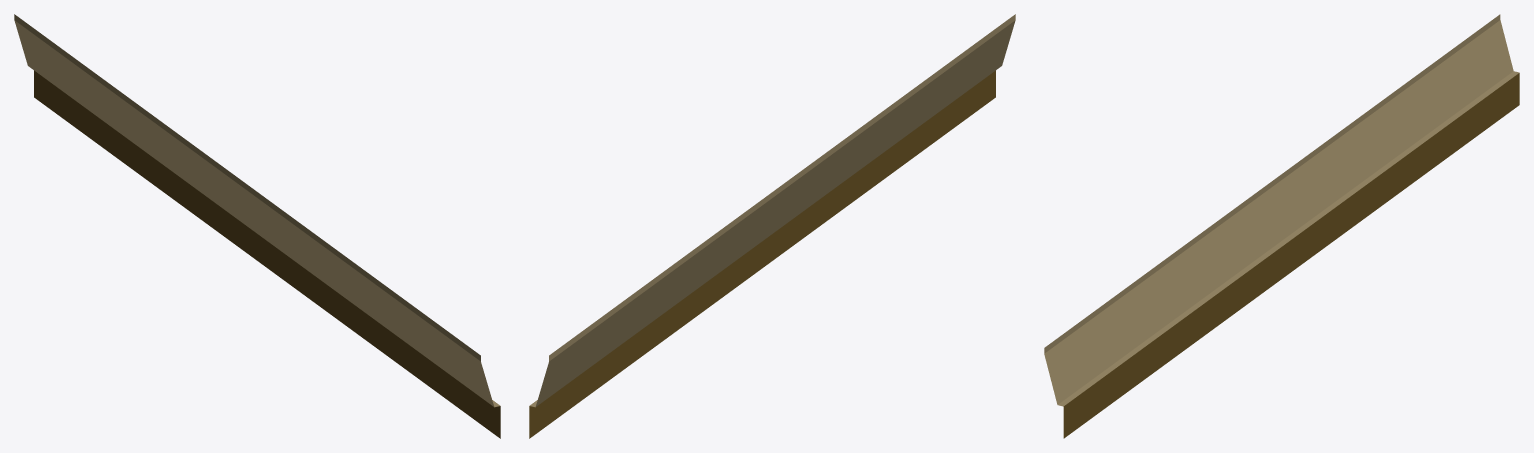
File: Fancy Wall top mini skirting board.fbx
3 renders of one model, left to right at view 1: azimuth 30°, elevation 25°; view 2: azimuth 150°, elevation 25°; view 3: azimuth 330°, elevation 25°, orthographic. The views are drawn at different scales.
Parts seen in each view (by area): view 1: pPlane10; view 2: pPlane10; view 3: pPlane10.
Boxes of the visible parts, left/top/right/bottom form: pPlane10: left=14, top=14, right=500, bottom=438; pPlane10: left=529, top=14, right=1015, bottom=438; pPlane10: left=1044, top=14, right=1519, bottom=438.
Size of the model in its own units: 4.03 by 17.23 by 165.
